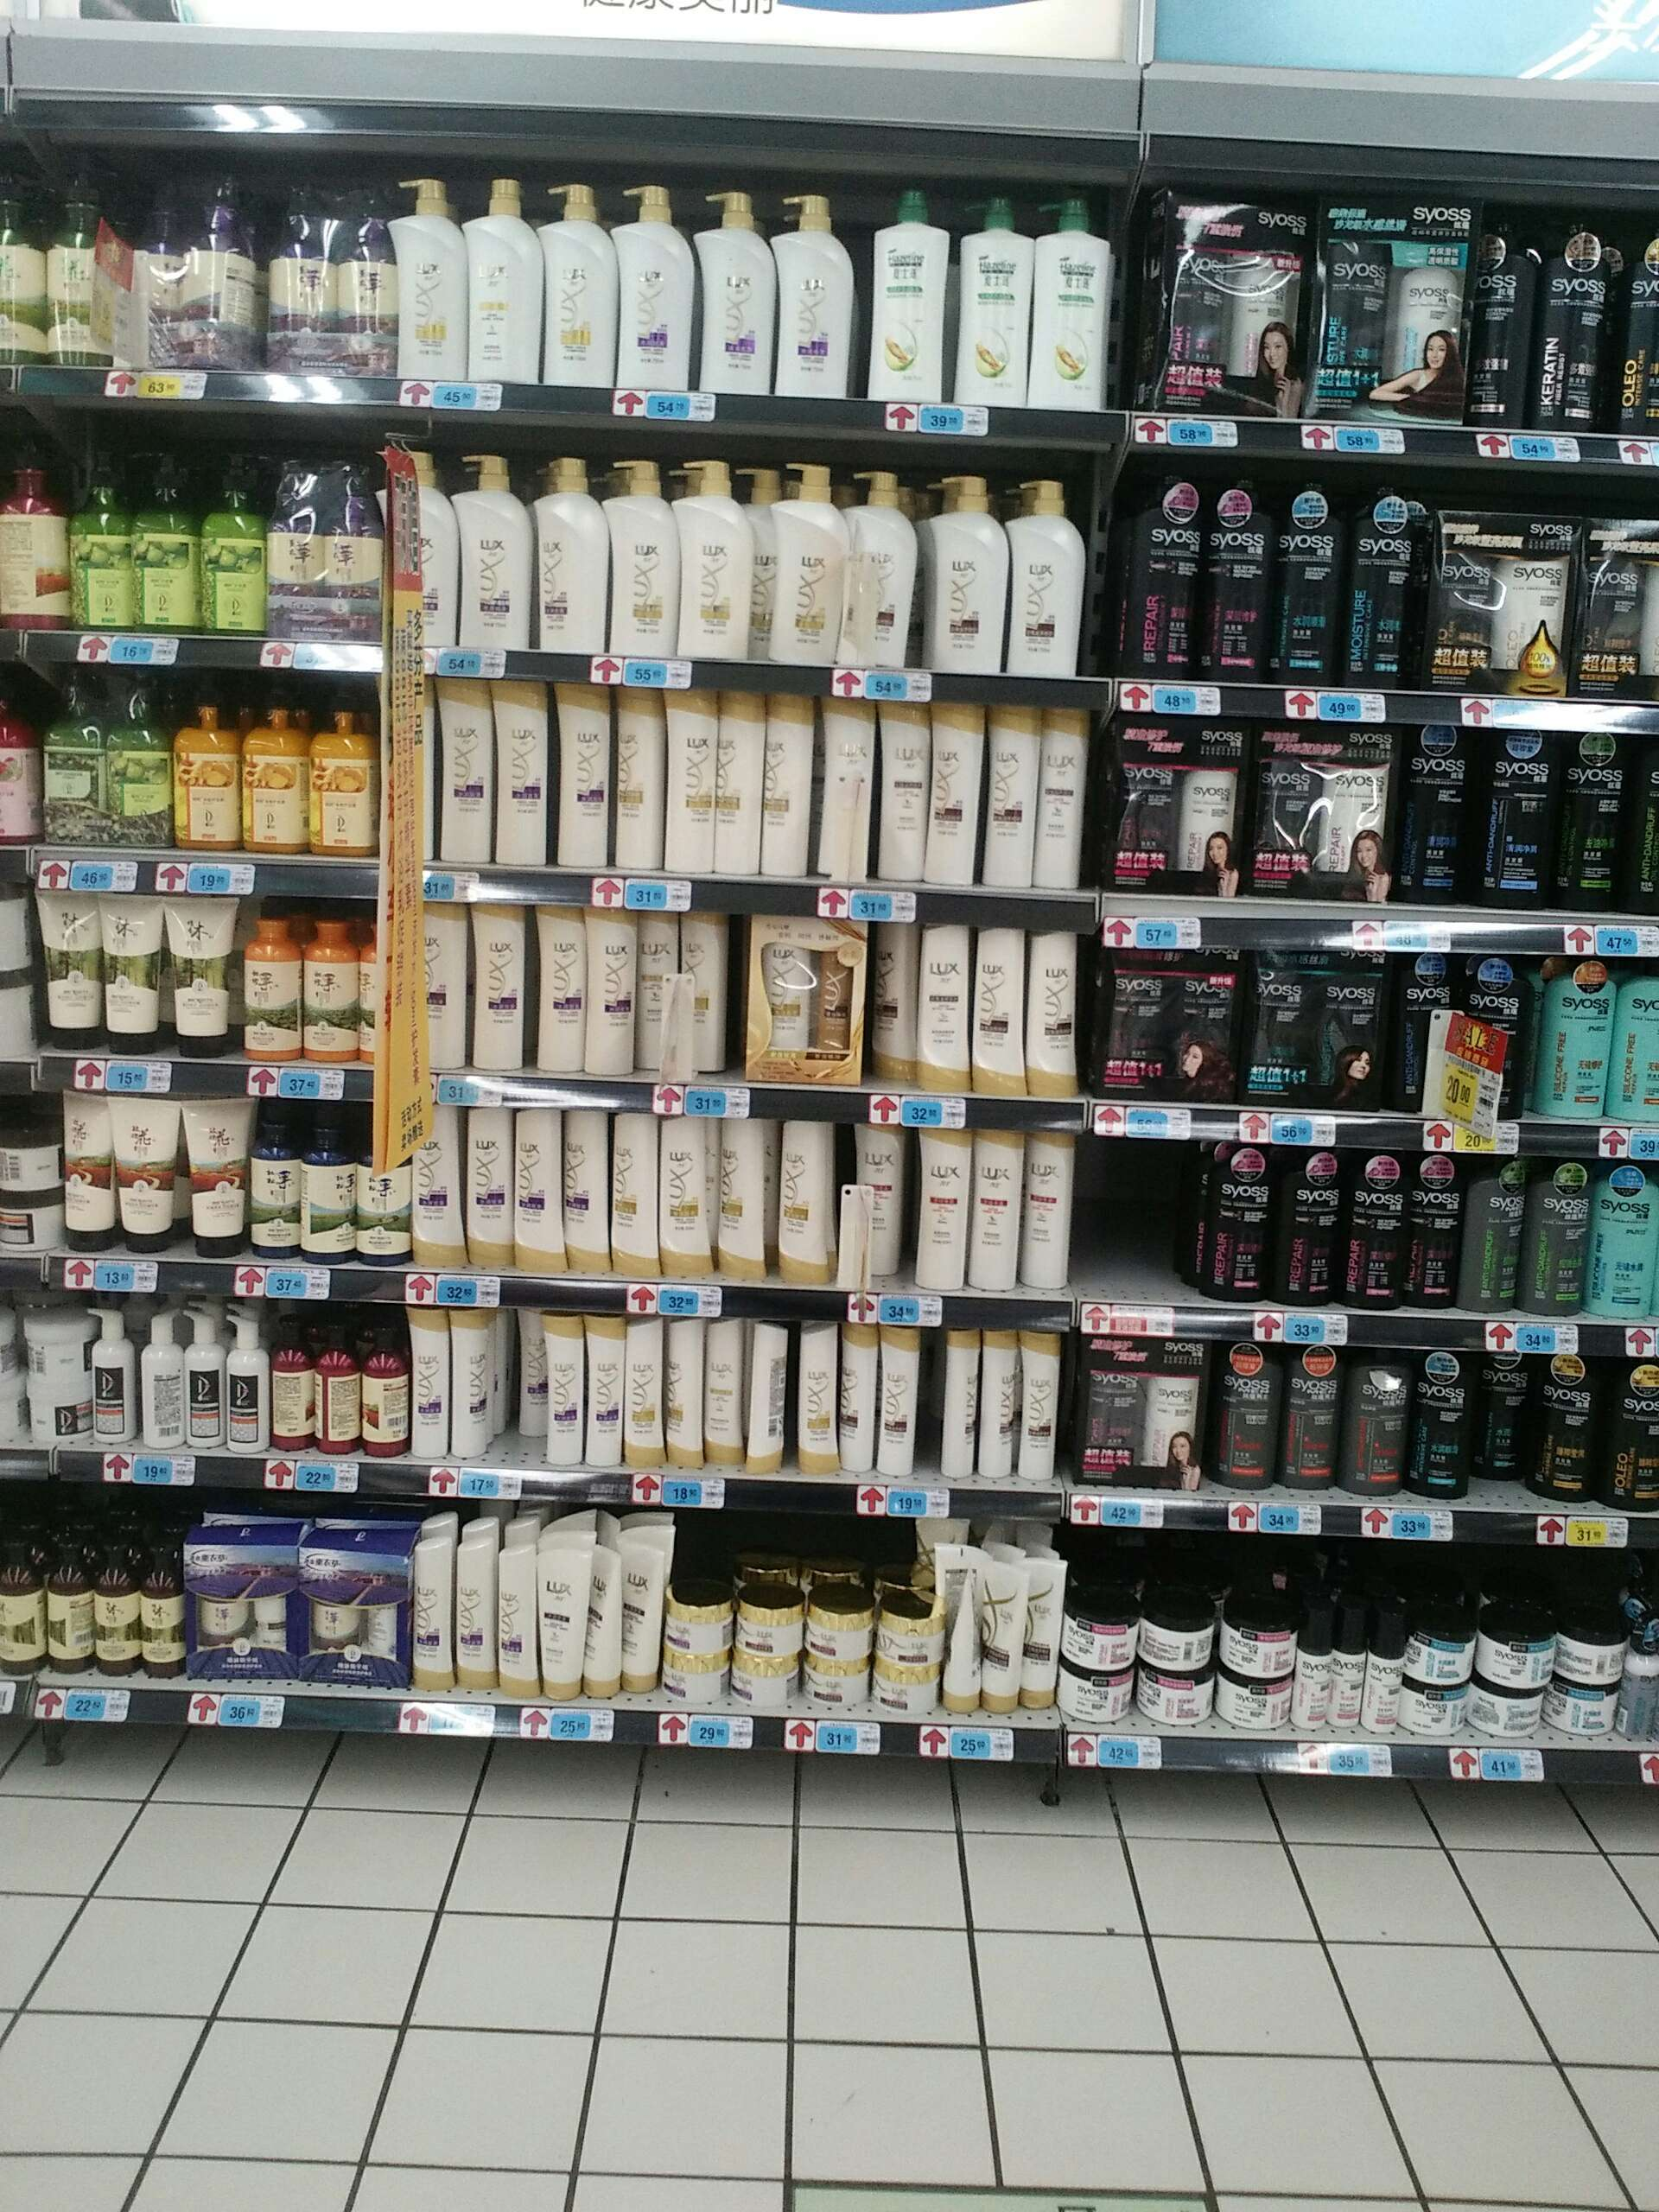Misplacement: (498, 1306, 547, 1468)
